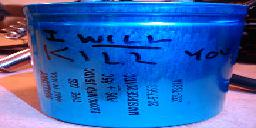Electrolytic-Capacitor: (26, 68, 241, 126)
